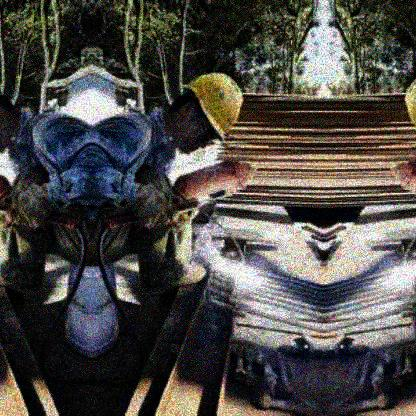helmet: (160, 73, 246, 156)
